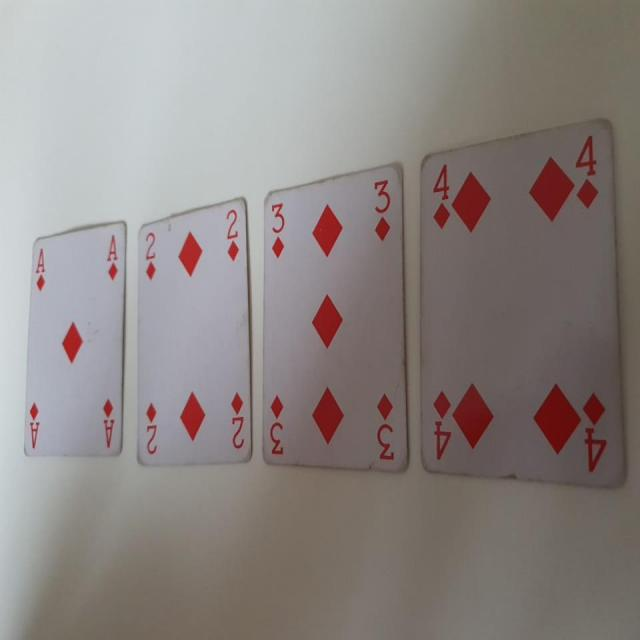2 Diamonds: (138, 190, 254, 463)
3 Diamonds: (258, 159, 411, 474)
4 Diamonds: (418, 116, 630, 495)
A Diamonds: (20, 217, 128, 462)
